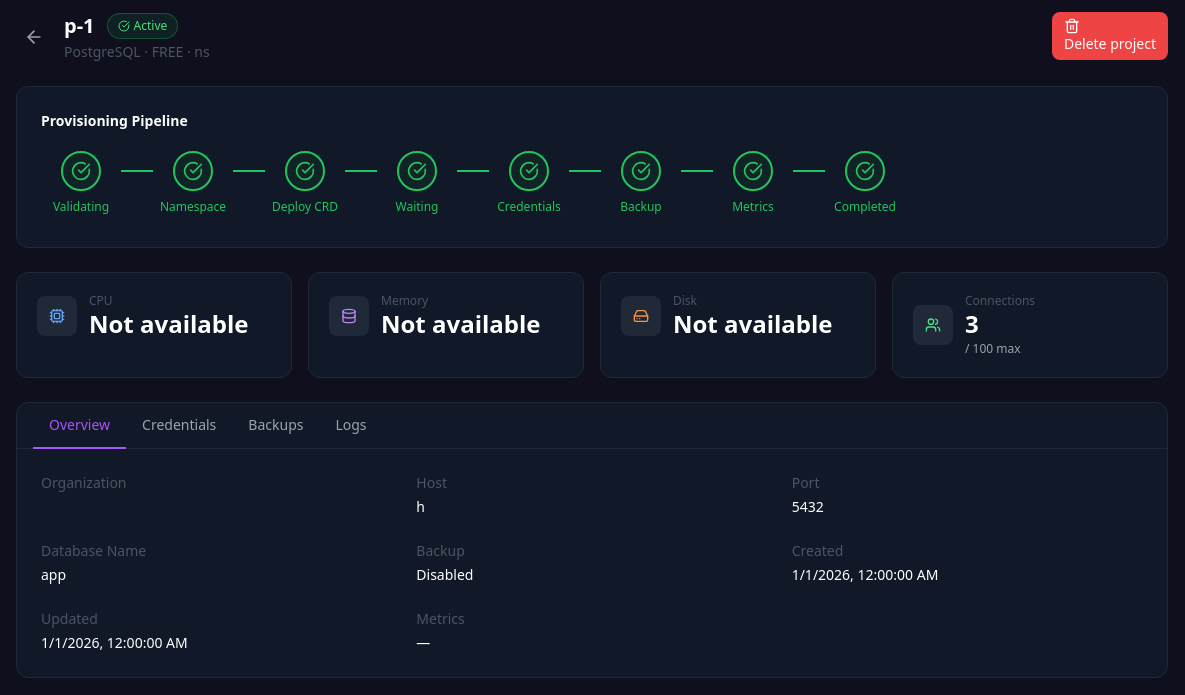
Scenario: Studio monitoring says what it cannot measure › the overview's log tab shows the database's log
What coordinates should you click on to do the following:
click the button "logs"
I would click on:
 (351, 426)
Its box is [320,403,383,449].
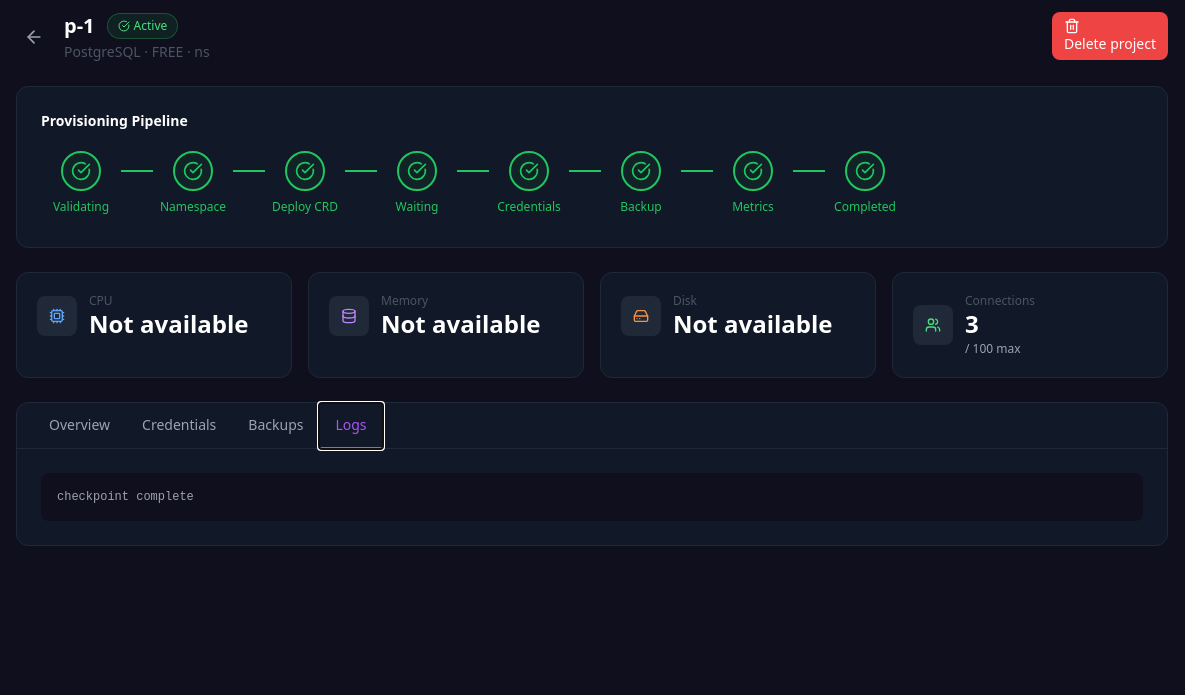
Now the text "checkpoint complete" is shown, box [41,473,1143,521]
